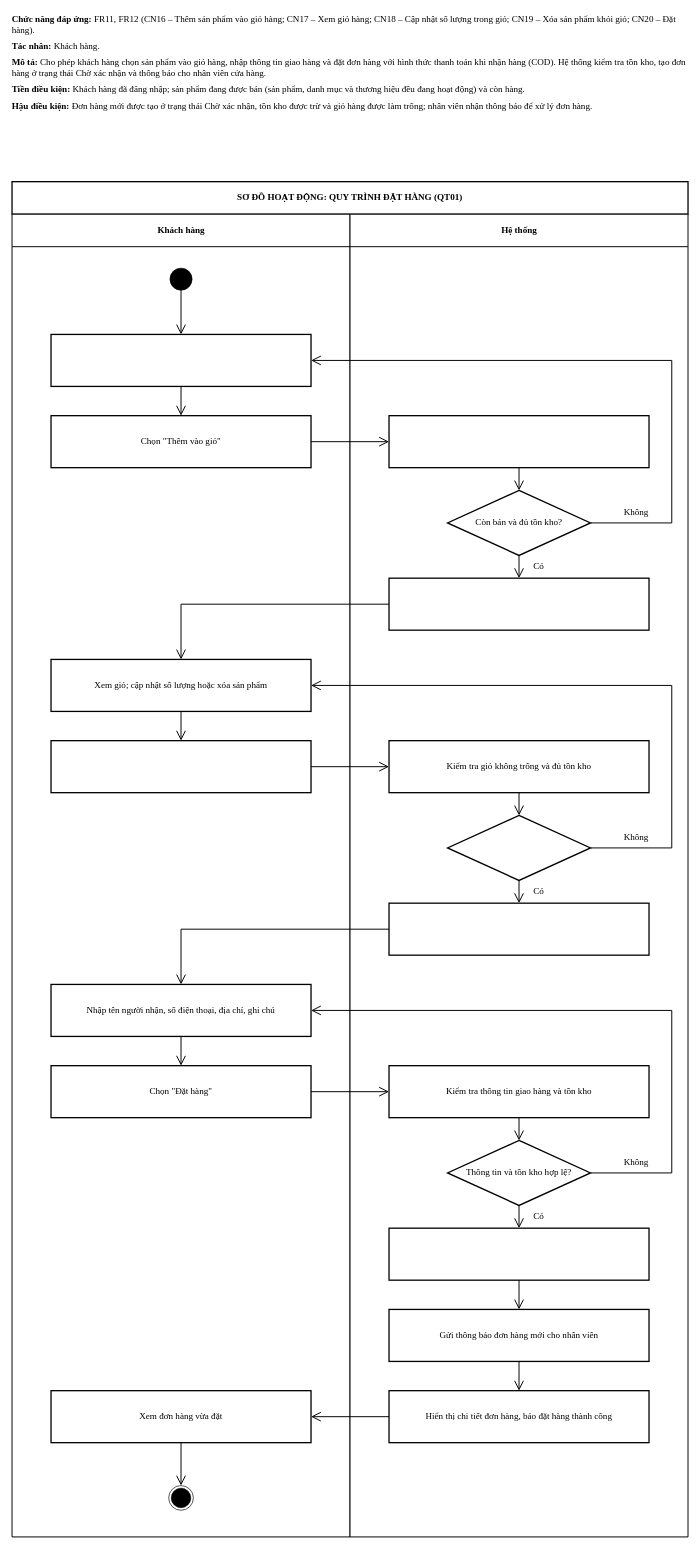
This 700x1548 diagram has some shape labels left out. The shapes that lost their labels are listed below. From the top down, each one's centre as x and y in pixels, then its label:
(180,360): Chọn phiên bản và số lượng sản phẩm
(518,441): Kiểm tra sản phẩm còn bán và đủ tồn kho
(518,603): Thêm vào giỏ, hiển thị giỏ hàng
(180,766): Chọn "Thanh toán"
(519,847): Giỏ hàng hợp lệ?
(518,929): Hiển thị trang thanh toán, phí vận chuyển, điền sẵn thông tin giao hàng
(518,1253): Tạo đơn hàng (Chờ xác nhận, COD), trừ tồn kho, làm trống giỏ
